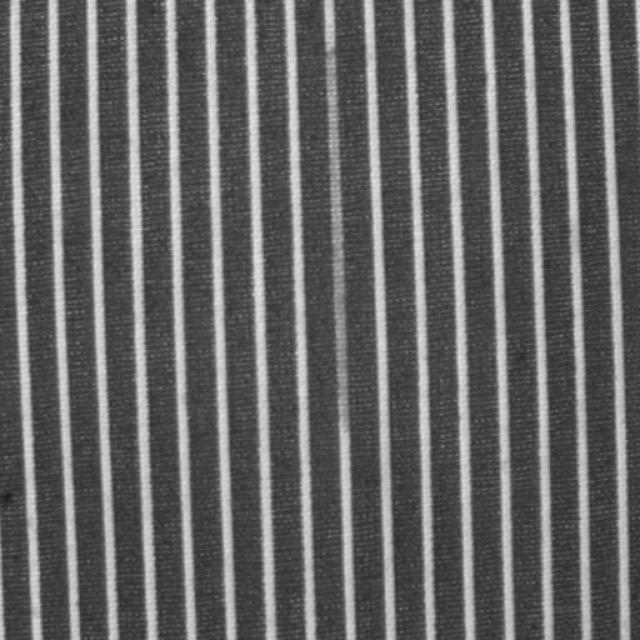Stain-Defect: (322, 0, 351, 476)
